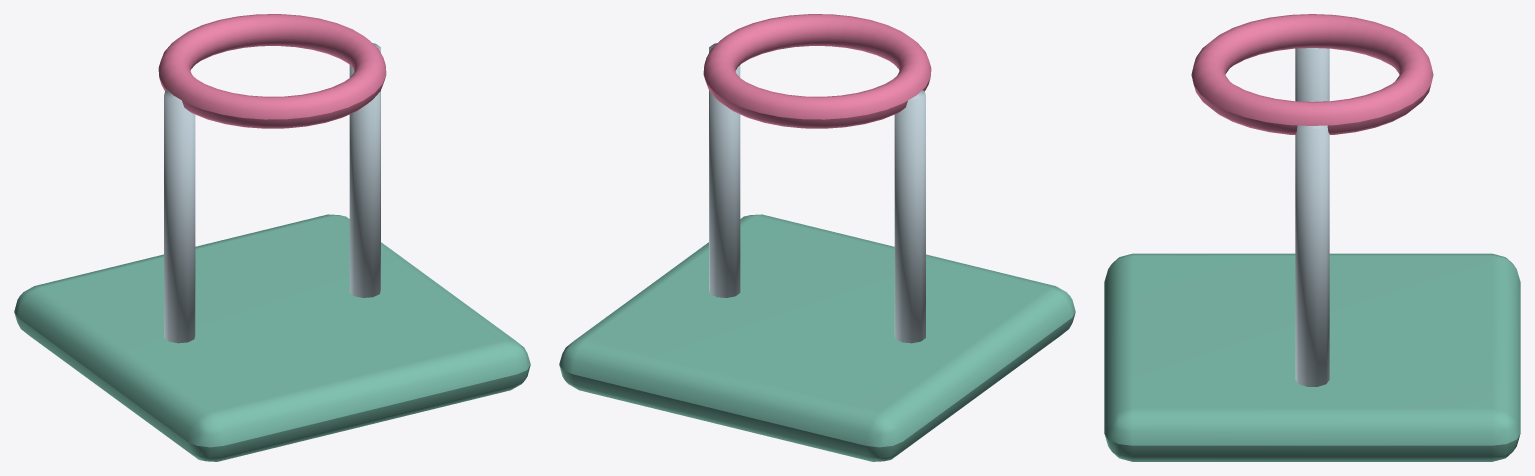
File: Cone_holder.fbx
The picture shows the model from 3 angles, left to right: view 1: azimuth 30°, elevation 25°; view 2: azimuth 150°, elevation 25°; view 3: azimuth 270°, elevation 25°; orthographic projection. The views are drawn at different scales.
Parts seen in each view (by area): view 1: Toon_Cone_holder Stable holder base.001, Toon_Cone_holder Cone support.001, Toon_Cone_holder Holder upright.002, Toon_Cone_holder Holder upright.003; view 2: Toon_Cone_holder Stable holder base.001, Toon_Cone_holder Cone support.001, Toon_Cone_holder Holder upright.002, Toon_Cone_holder Holder upright.003; view 3: Toon_Cone_holder Stable holder base.001, Toon_Cone_holder Cone support.001, Toon_Cone_holder Holder upright.003, Toon_Cone_holder Holder upright.002.
Part boxes in pixels (<box>): Toon_Cone_holder Stable holder base.001: <box>14,214,530,461</box>; Toon_Cone_holder Cone support.001: <box>158,14,386,128</box>; Toon_Cone_holder Holder upright.002: <box>164,90,195,343</box>; Toon_Cone_holder Holder upright.003: <box>349,43,380,297</box>; Toon_Cone_holder Stable holder base.001: <box>559,214,1075,461</box>; Toon_Cone_holder Cone support.001: <box>703,14,931,128</box>; Toon_Cone_holder Holder upright.002: <box>894,90,925,343</box>; Toon_Cone_holder Holder upright.003: <box>709,43,740,297</box>; Toon_Cone_holder Stable holder base.001: <box>1104,253,1520,461</box>; Toon_Cone_holder Cone support.001: <box>1191,14,1433,134</box>; Toon_Cone_holder Holder upright.003: <box>1295,125,1329,386</box>; Toon_Cone_holder Holder upright.002: <box>1295,48,1329,101</box>.
Size of the model in its own units: 22 by 18.9 by 22.
